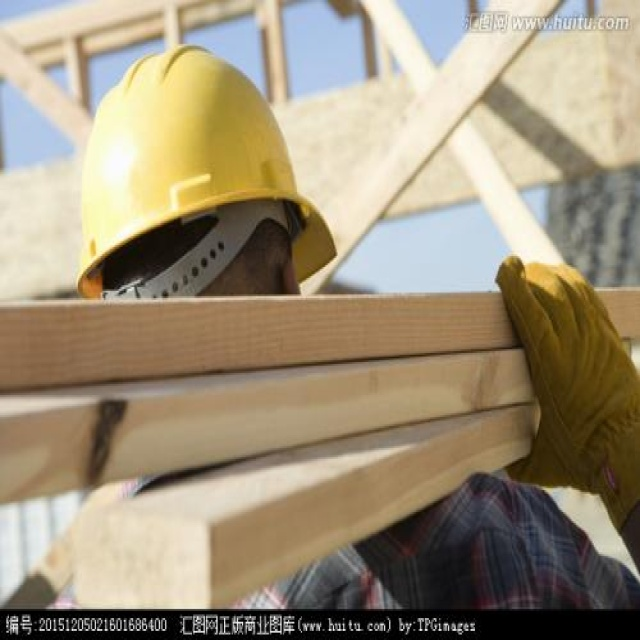Helmet: (69, 34, 347, 382)
